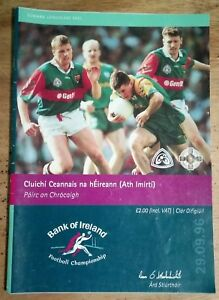ball: (108, 95, 132, 120)
player: (29, 31, 98, 174), (112, 71, 195, 165), (145, 26, 202, 131)
